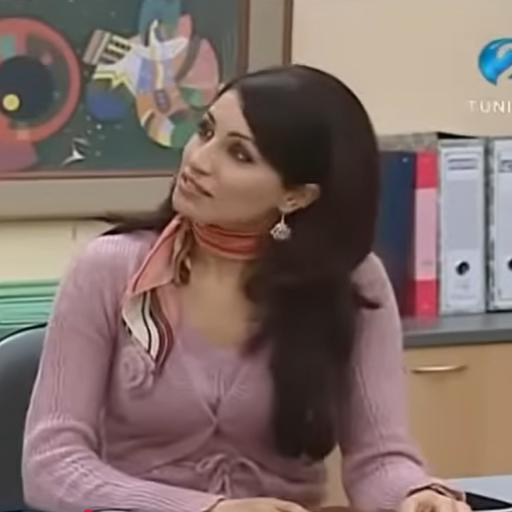Dalanda: (173, 90, 319, 231)
